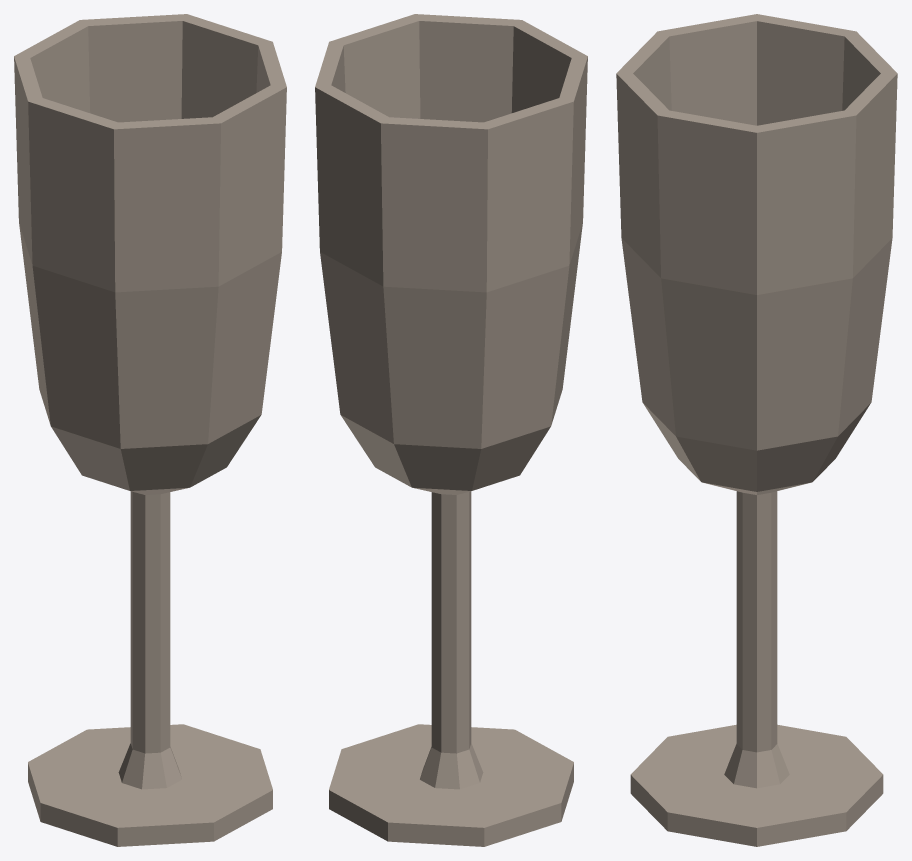
File: Wineglass1_C2.fbx
3 views of the same model, side by side, from view 1: azimuth 30°, elevation 25°; view 2: azimuth 150°, elevation 25°; view 3: azimuth 270°, elevation 25° (orthographic).
Visible parts, largest first — view 1: Wineglass1_C2; view 2: Wineglass1_C2; view 3: Wineglass1_C2.
Boxes of the visible parts, bbox=[...] form: Wineglass1_C2: bbox=[14, 14, 286, 846]; Wineglass1_C2: bbox=[315, 14, 587, 846]; Wineglass1_C2: bbox=[616, 14, 897, 846].
Bounding box in the file's own units: 6.62 × 18.71 × 6.62.
